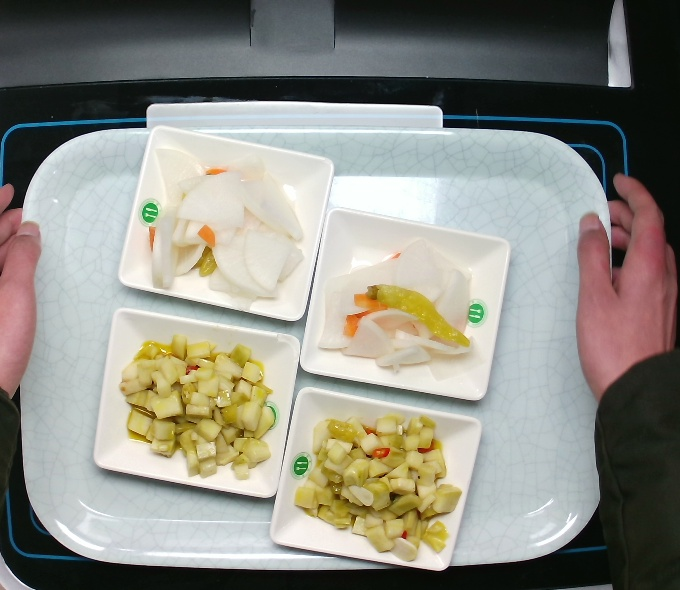wcq-LuLuoBo: (139, 144, 305, 303), (319, 237, 484, 376)
wcq-TangCuOu: (297, 408, 465, 563), (113, 331, 276, 487)
